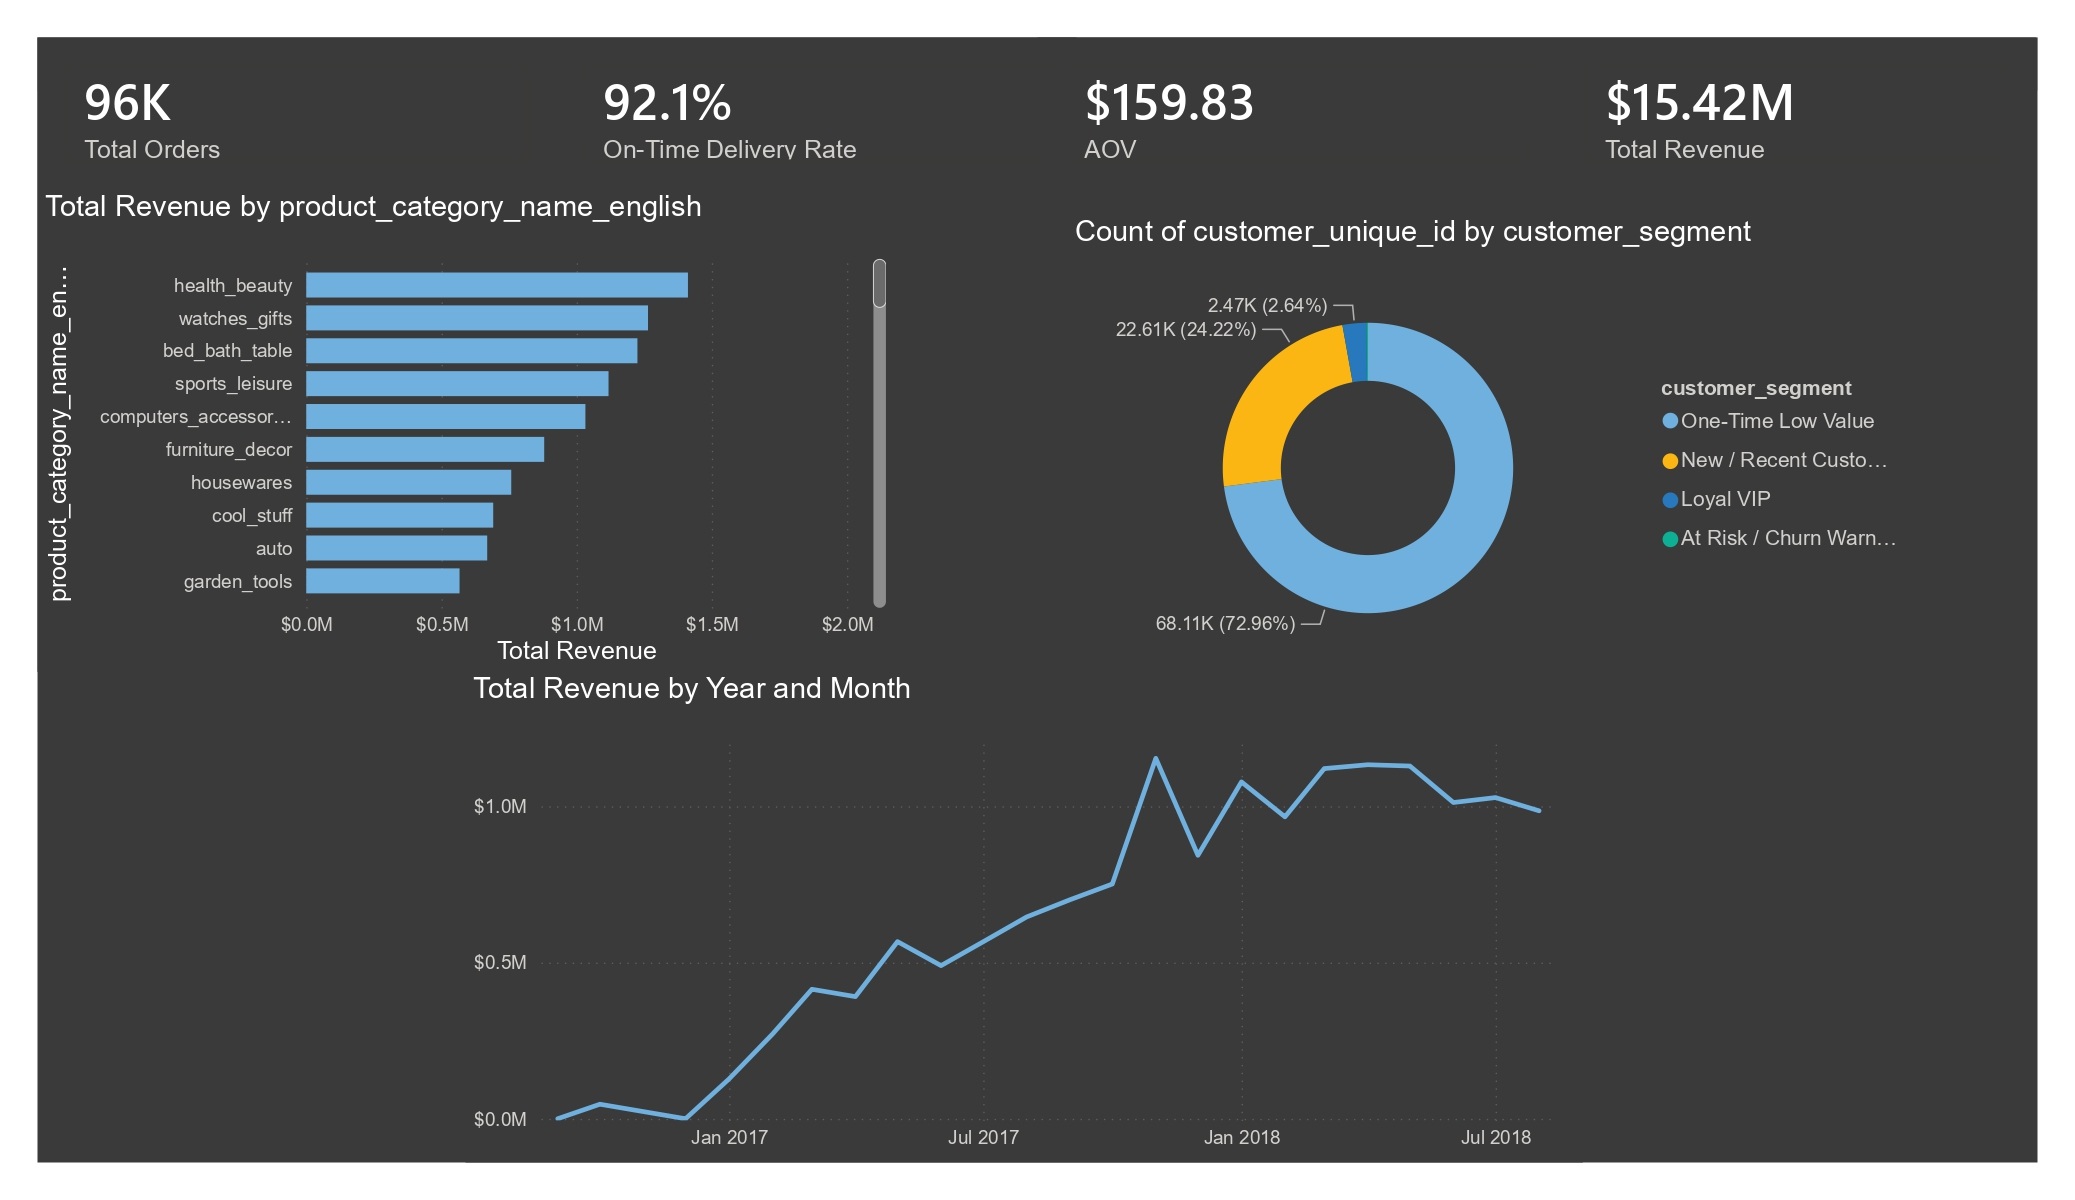

What the dashboard file says about the page in this screenshot:
{"tool":"powerbi","page":{"name":"Page 1","canvas":[1280,720],"ordinal":0},"visuals":[{"type":"cardVisual","fields":{"Data":["_Measures.Total Revenue"]},"box":[973.1,0,305.9,96.5],"z":0},{"type":"cardVisual","fields":{"Data":["_Measures.Total Orders"]},"box":[0,0,331.7,96.5],"z":1000},{"type":"cardVisual","fields":{"Data":["_Measures.AOV"]},"box":[640.5,0,332.7,96.5],"z":2000},{"type":"cardVisual","fields":{"Data":["_Measures.On-Time Delivery Rate"]},"box":[331.7,0,333.6,96.5],"z":3000},{"type":"lineChart","fields":{"Y":["_Measures.Total Revenue"],"Category":["olist_cleaned_merged.order_purchase_timestamp.Variation.Date Hierarchy.Year","olist_cleaned_merged.order_purchase_timestamp.Variation.Date Hierarchy.Month"]},"box":[274.4,406.3,715,313.5],"z":4000},{"type":"clusteredBarChart","fields":{"Category":["product_category_name_translation.product_category_name_english"],"Y":["_Measures.Total Revenue"]},"box":[0,96.5,547.8,309.7],"z":5000},{"type":"donutChart","fields":{"Category":["olist_rfm_summary.customer_segment"],"Y":["CountNonNull(olist_rfm_summary.customer_unique_id)"]},"box":[658.6,112.8,547.8,293.5],"z":6000}]}

Visuals, with their boxes on the page's 1280x720 design canvas (x1, y1, x2, y2). These are canvas units, not pixel positions in the 2075x1200 screenshot, which may show the page scaled, cropped or inside an application window:
cardVisual - _Measures.Total Revenue: (973, 0, 1279, 96)
cardVisual - _Measures.Total Orders: (0, 0, 332, 96)
cardVisual - _Measures.AOV: (640, 0, 973, 96)
cardVisual - _Measures.On-Time Delivery Rate: (332, 0, 665, 96)
lineChart - _Measures.Total Revenue x olist_cleaned_merged.order_purchase_timestamp.Variation.Date Hierarchy.Year: (274, 406, 989, 720)
clusteredBarChart - product_category_name_translation.product_category_name_english x _Measures.Total Revenue: (0, 96, 548, 406)
donutChart - olist_rfm_summary.customer_segment x CountNonNull(olist_rfm_summary.customer_unique_id): (659, 113, 1206, 406)
